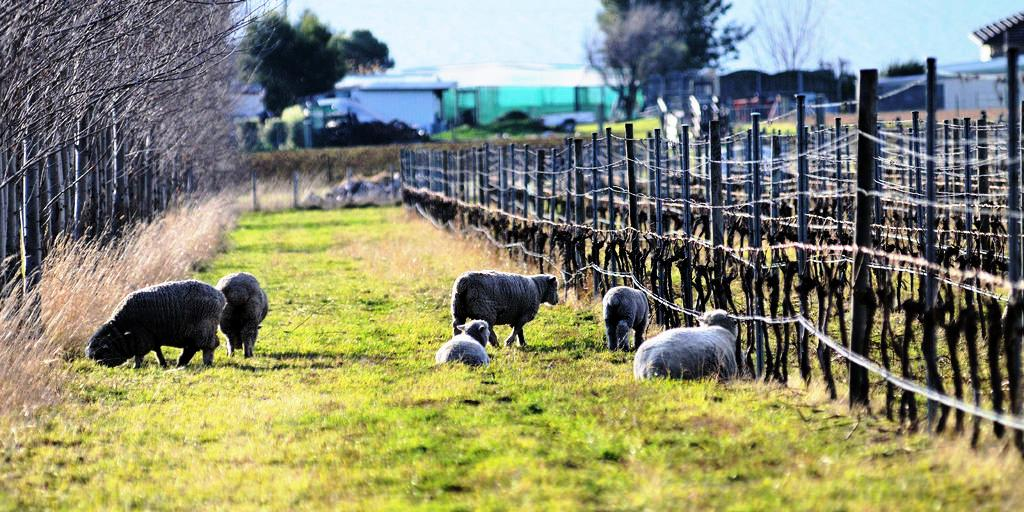Sheep: (83, 278, 236, 394), (448, 266, 562, 350), (632, 308, 742, 384), (214, 270, 268, 358), (602, 284, 652, 354), (433, 316, 494, 368)
